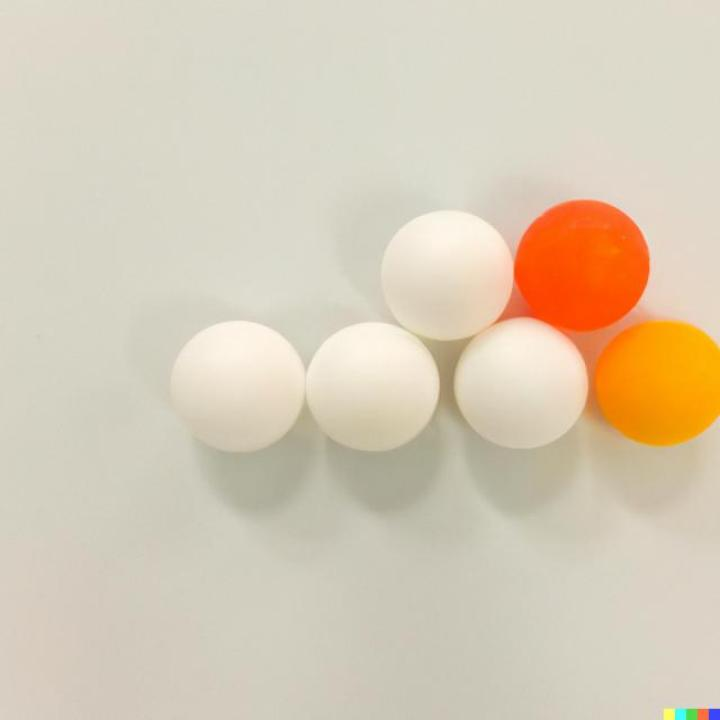orange: (517, 198, 650, 330), (596, 318, 720, 446)
white: (172, 319, 306, 454), (378, 208, 514, 340), (456, 317, 588, 449), (306, 323, 440, 452)
